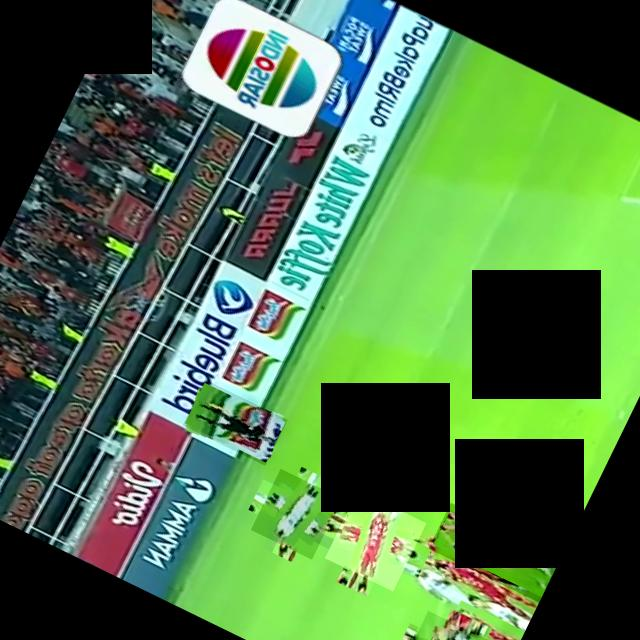referee: (182, 378, 288, 464)
soccer-player: (428, 502, 561, 602), (324, 488, 426, 590), (250, 468, 342, 558), (391, 609, 504, 640), (445, 599, 525, 640)
